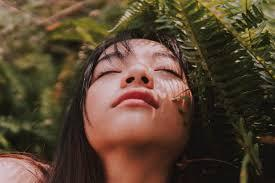Persons: (82, 29, 201, 159)
